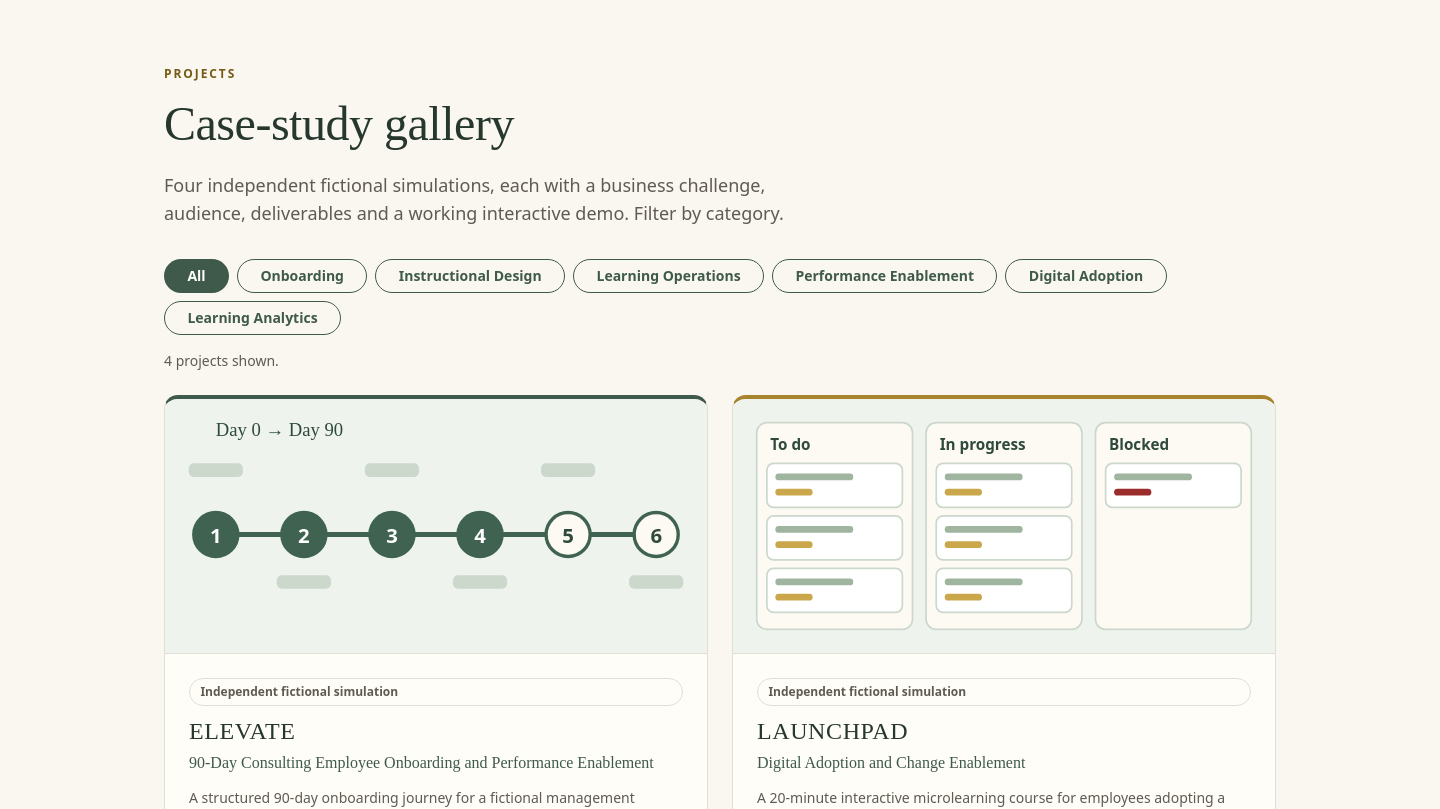
Test case: Projects page › shows all four projects and filters by category
This screenshot has width=1440, height=809.
Later steps or results of the test are not shown.
Click the button "Onboarding". click: click(302, 276)
box: [237,259,367,293]
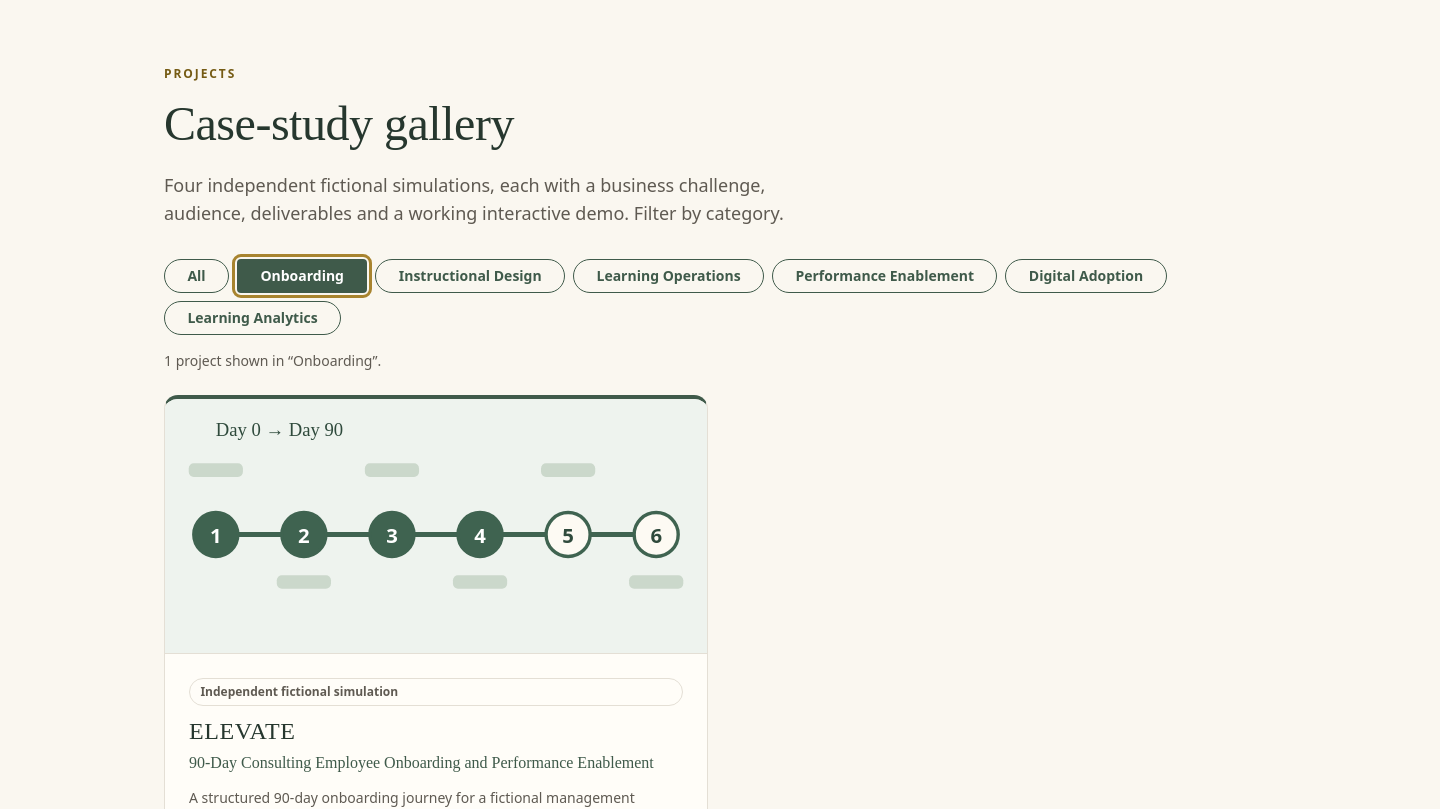
Check: the button "Onboarding" is pressed, box [237,259,367,293]
